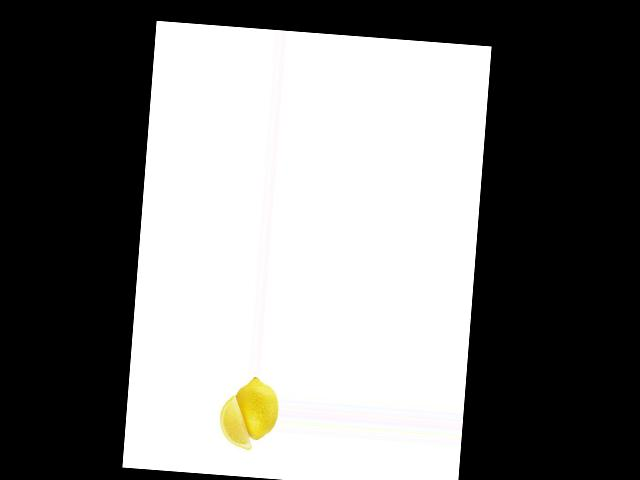lemon: (230, 373, 280, 445)
